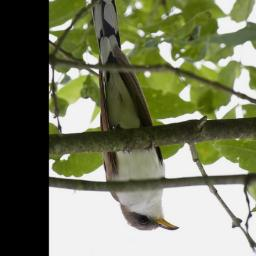Cuckoo: (90, 0, 181, 232)
